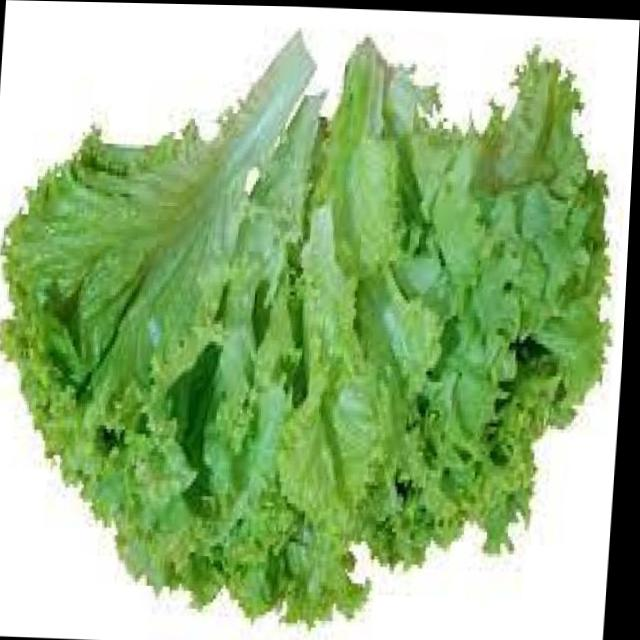Mature: (16, 42, 583, 621)
